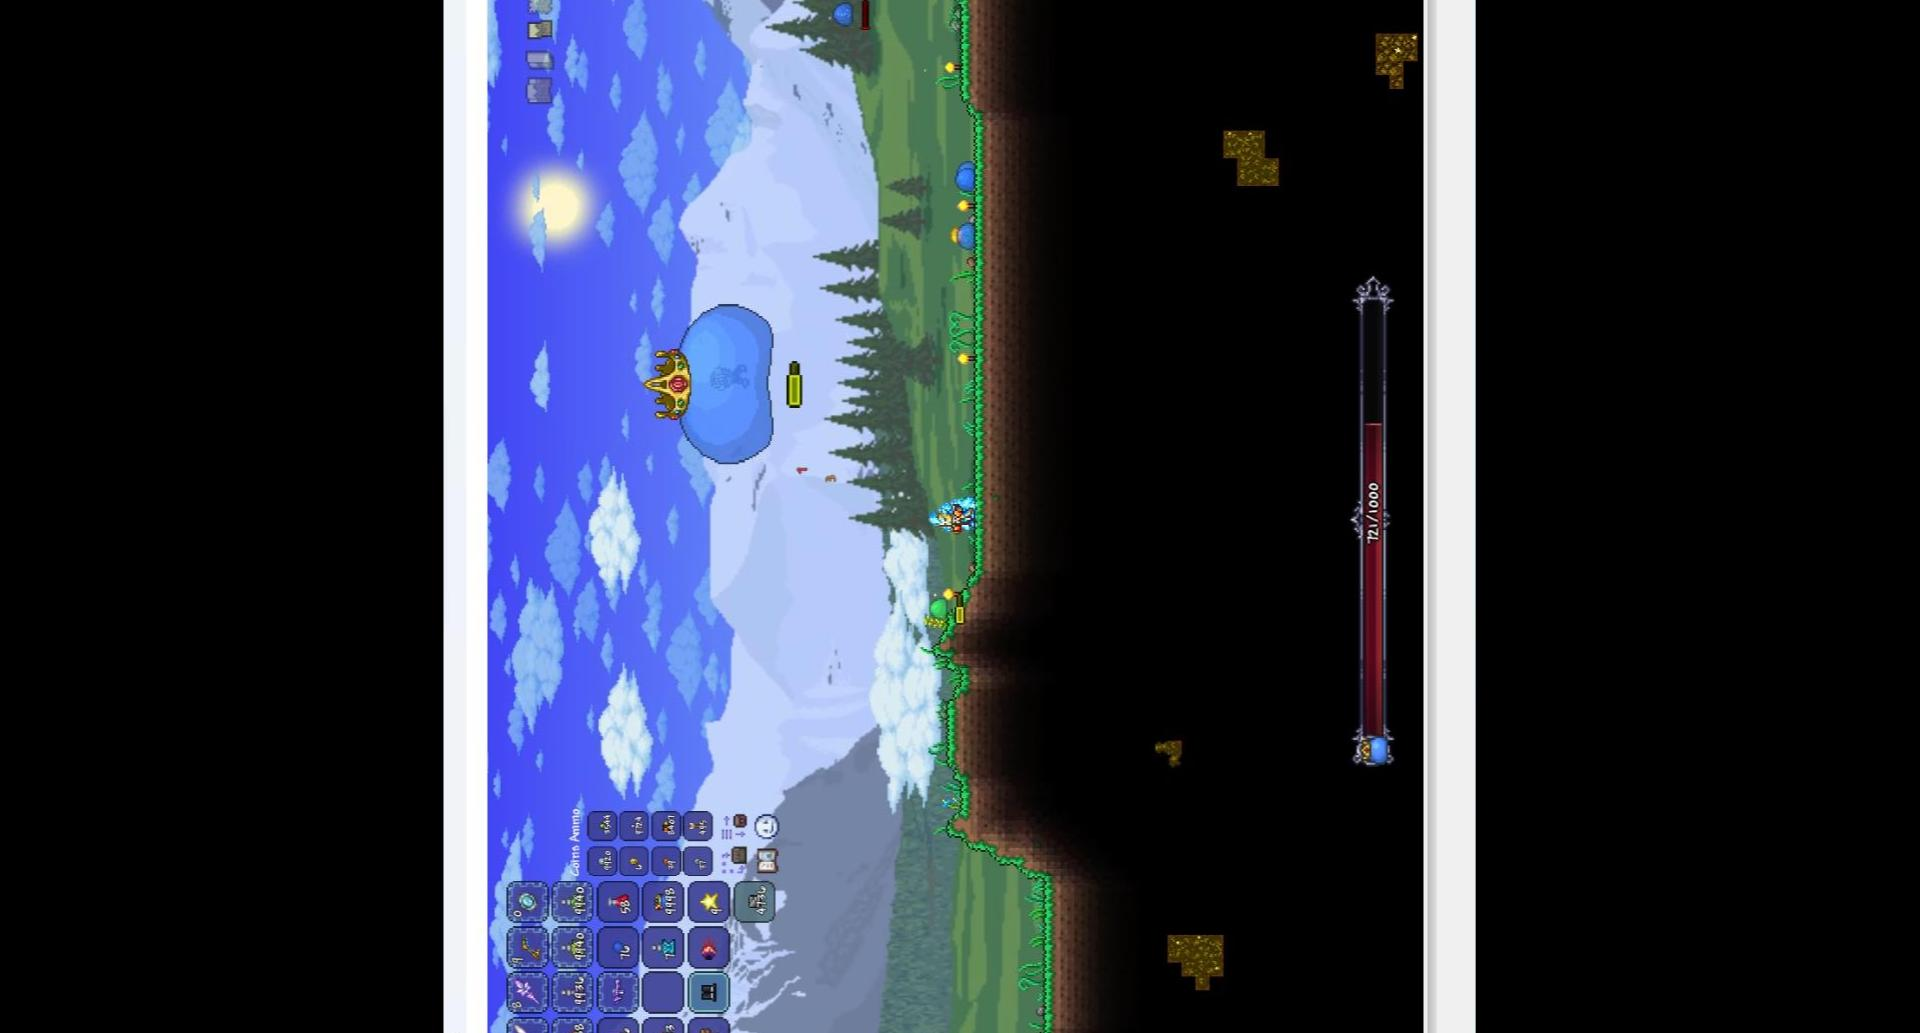slime: (952, 216, 978, 251), (826, 0, 856, 29), (951, 167, 977, 191), (924, 598, 951, 617)
